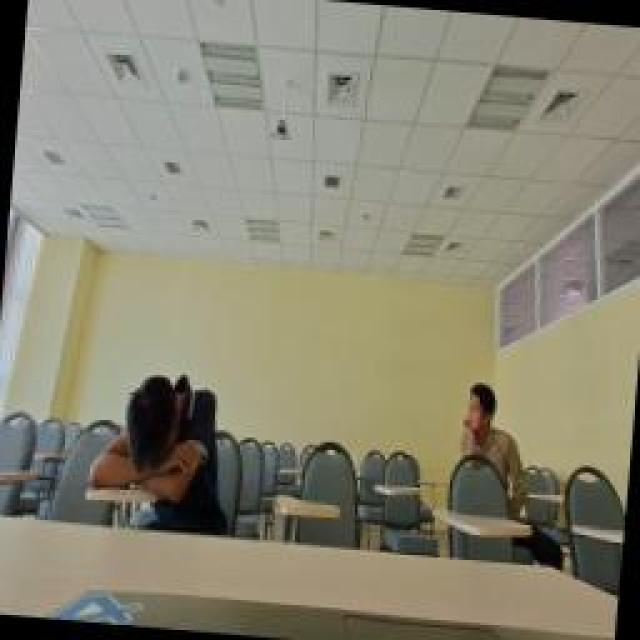sleep: (85, 360, 240, 530)
study: (448, 367, 540, 525)
